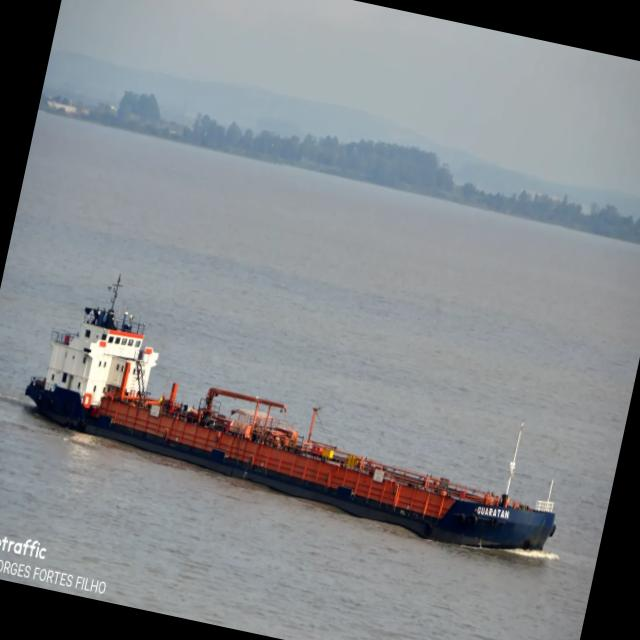Tanker: (25, 278, 554, 550)
